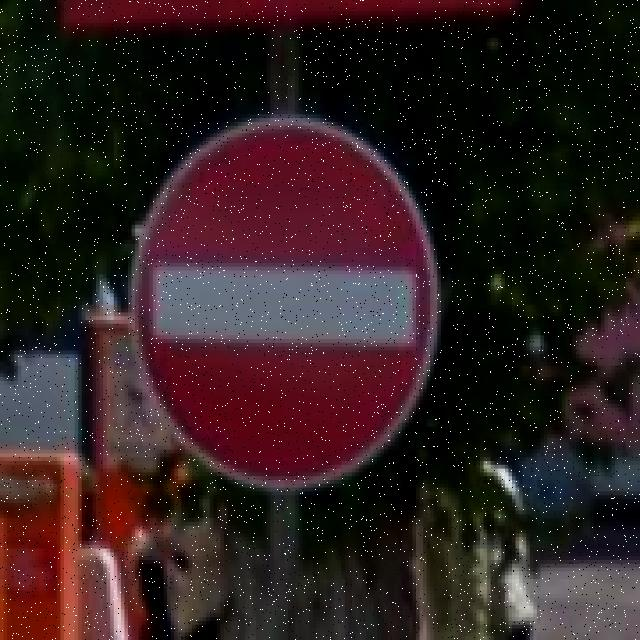Zakaz wjazdu: (131, 110, 441, 496)
